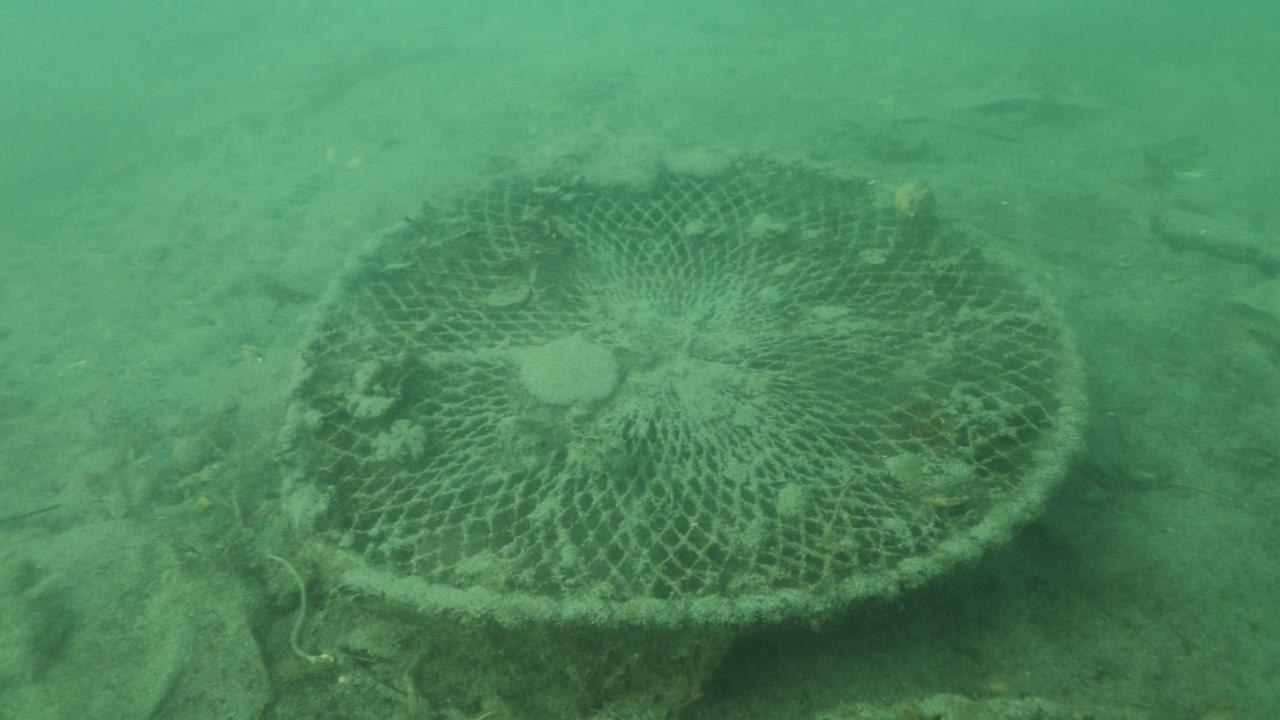circular fish trap: (276, 135, 1095, 632)
